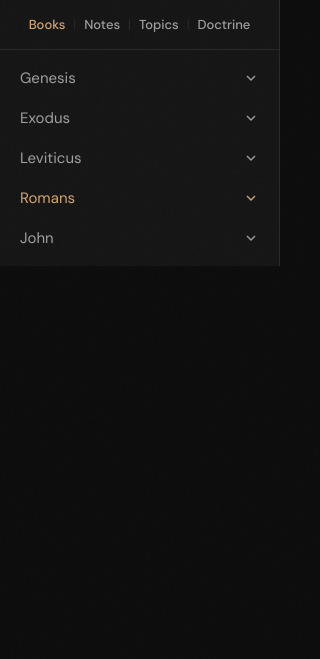
Scenario: Sidebar › Books tab › collapses book when clicked again
Click the button "Genesis": click(48, 78) [8,58,271,98]
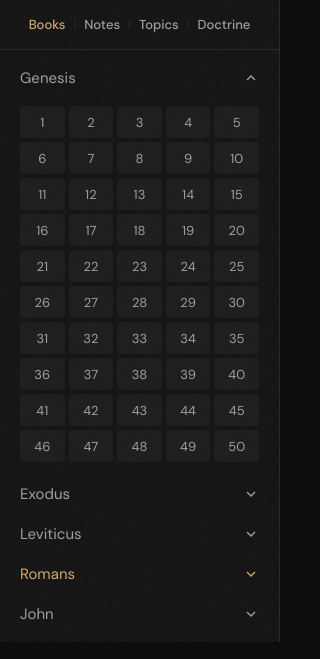
Check: the button "1" is shown, box [20,106,65,138]
Click the button "Genesis": click(48, 78) [8,58,271,98]
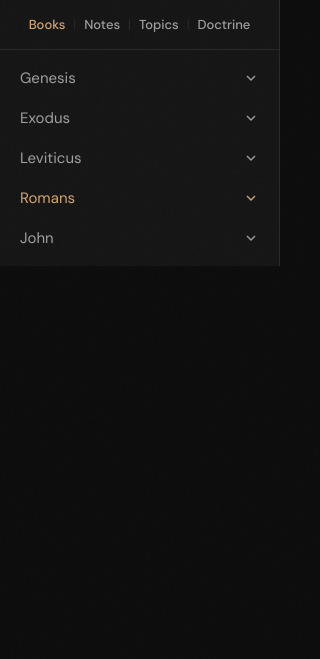
Check: the button "1" is gone
